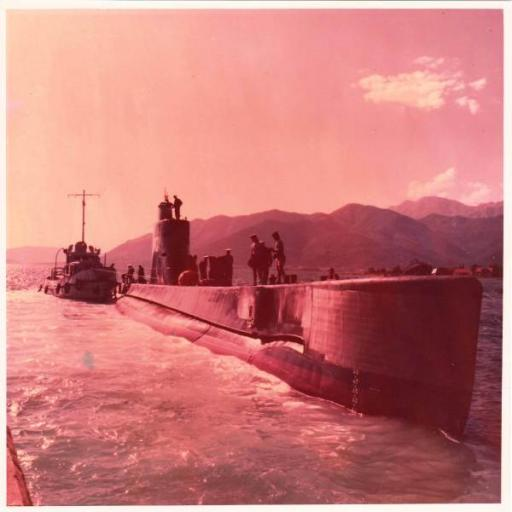submarine: (119, 187, 472, 442)
